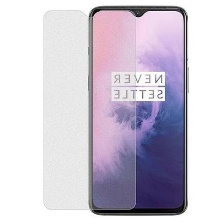phone: (85, 0, 190, 218)
